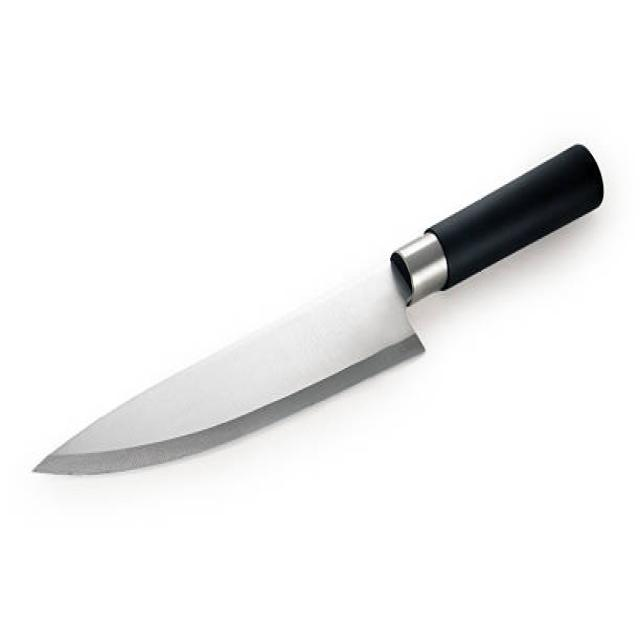knife: (26, 139, 605, 482)
